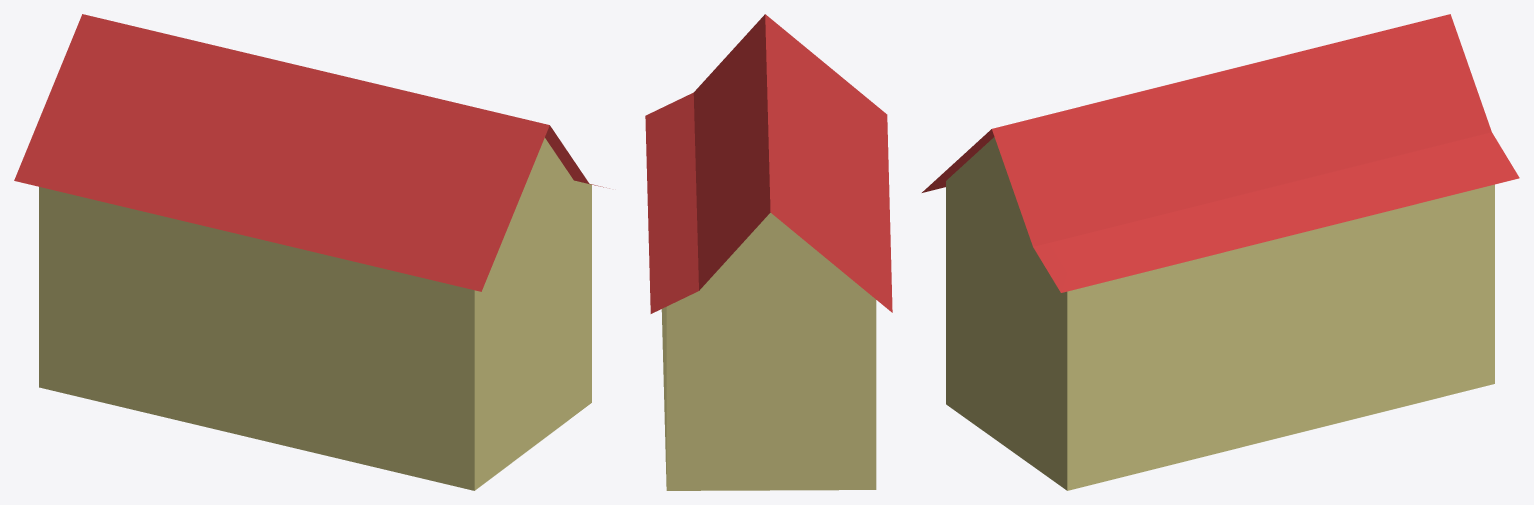
The picture shows the model from 3 angles, left to right: view 1: azimuth 30°, elevation 25°; view 2: azimuth 150°, elevation 25°; view 3: azimuth 270°, elevation 25°; orthographic projection. The views are drawn at different scales.
Bounding box in the file's own units: 20.91 × 24.64 × 14.68.
